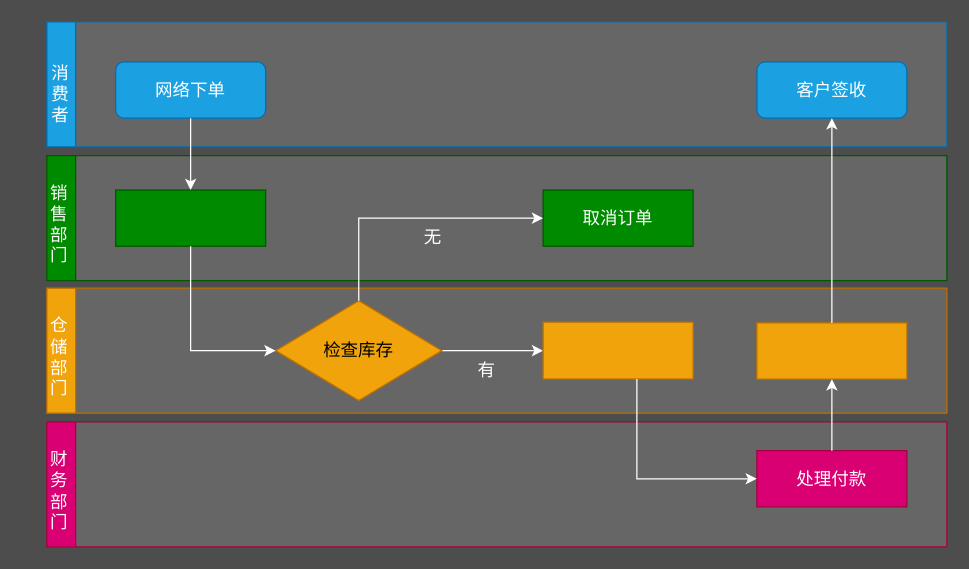
Image size: 969x569. Some labels were removed from this diagram. Here are the shapes that lost their labels. From the top down, the centre of each, then its label:
the point at 190,217: 订单确认
the point at 617,350: 安排发货
the point at 831,350: 物流配送
